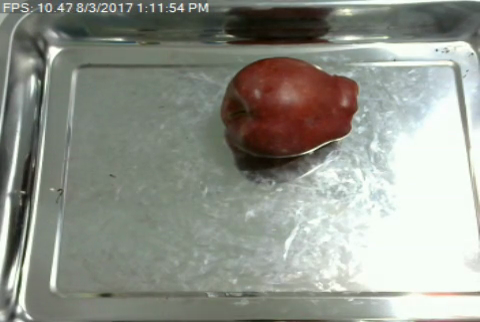Apple: (212, 54, 365, 163)
